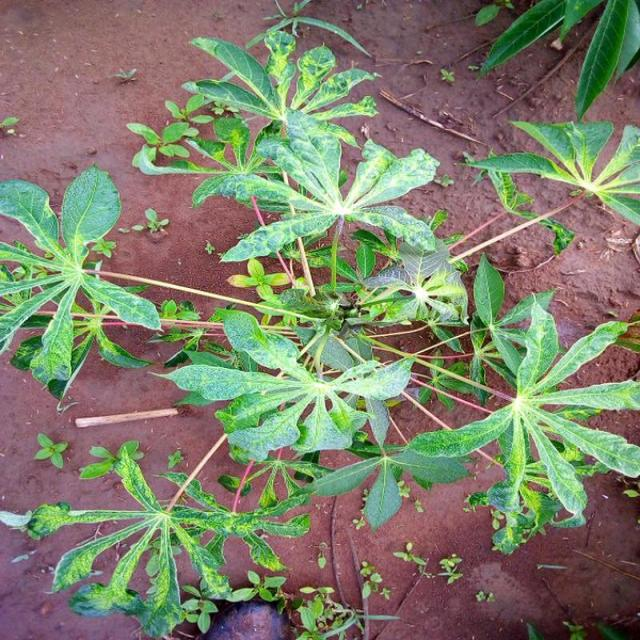cassava leaf: (0, 17, 638, 635), (398, 296, 638, 554), (0, 162, 162, 402)
